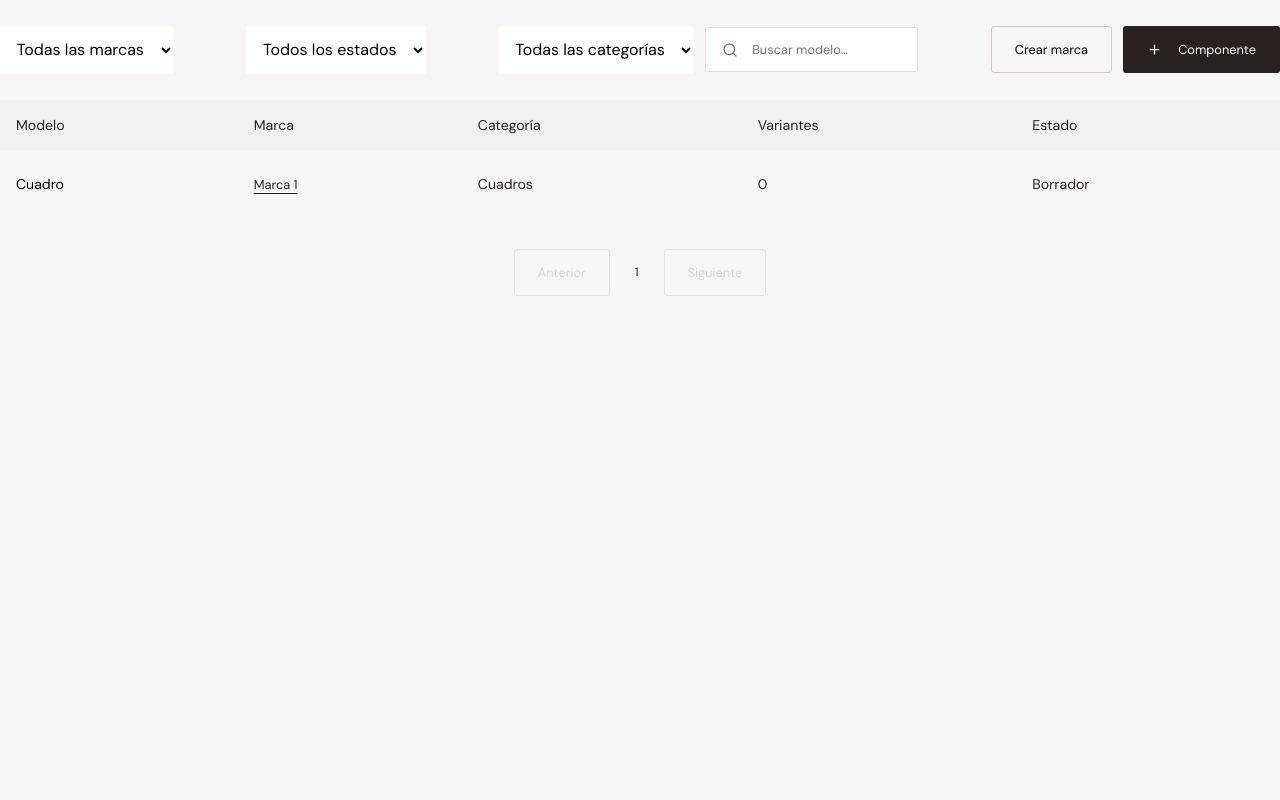
Test: links a component brand to a refreshable brand detail route
Step 1. Click the button "Marca 1" → (276, 184), box [254,166,298,203]
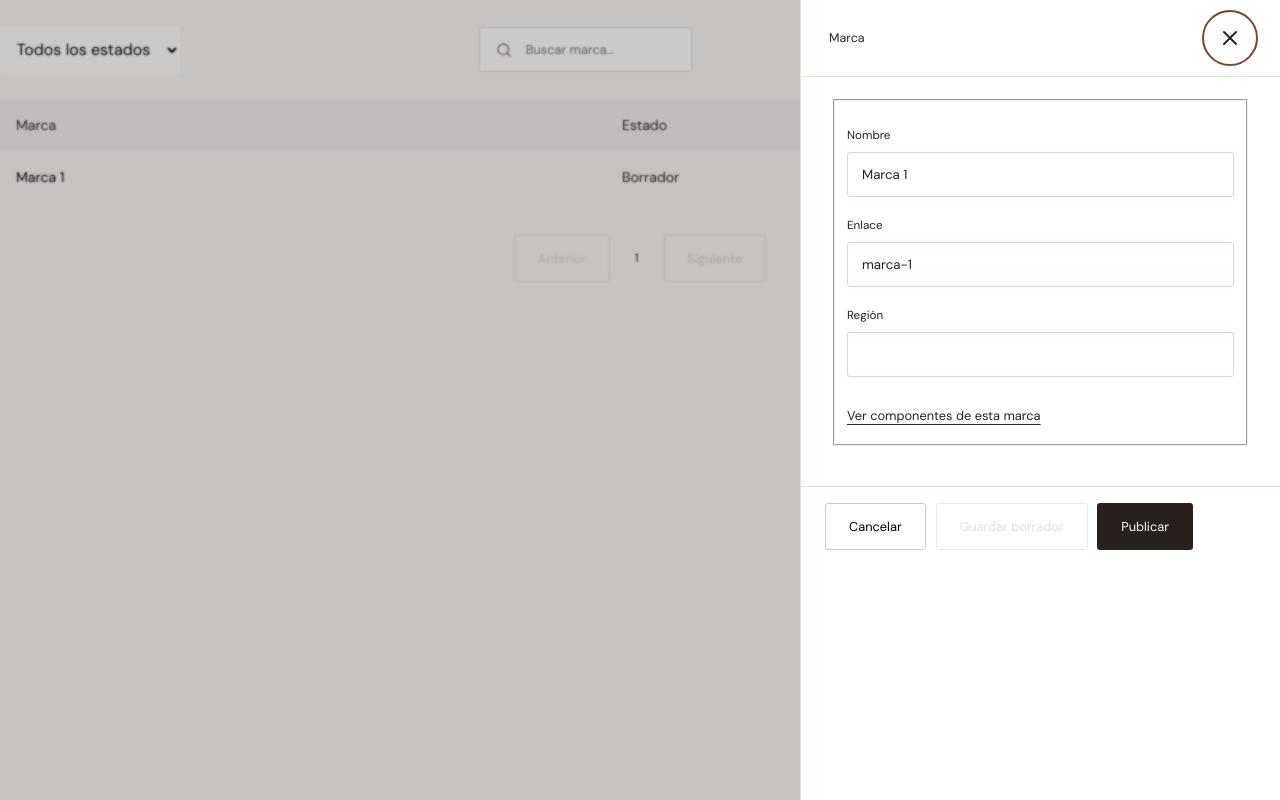
Check: the field labelled "Nombre" holds "Marca 1", box [847,152,1234,197]
